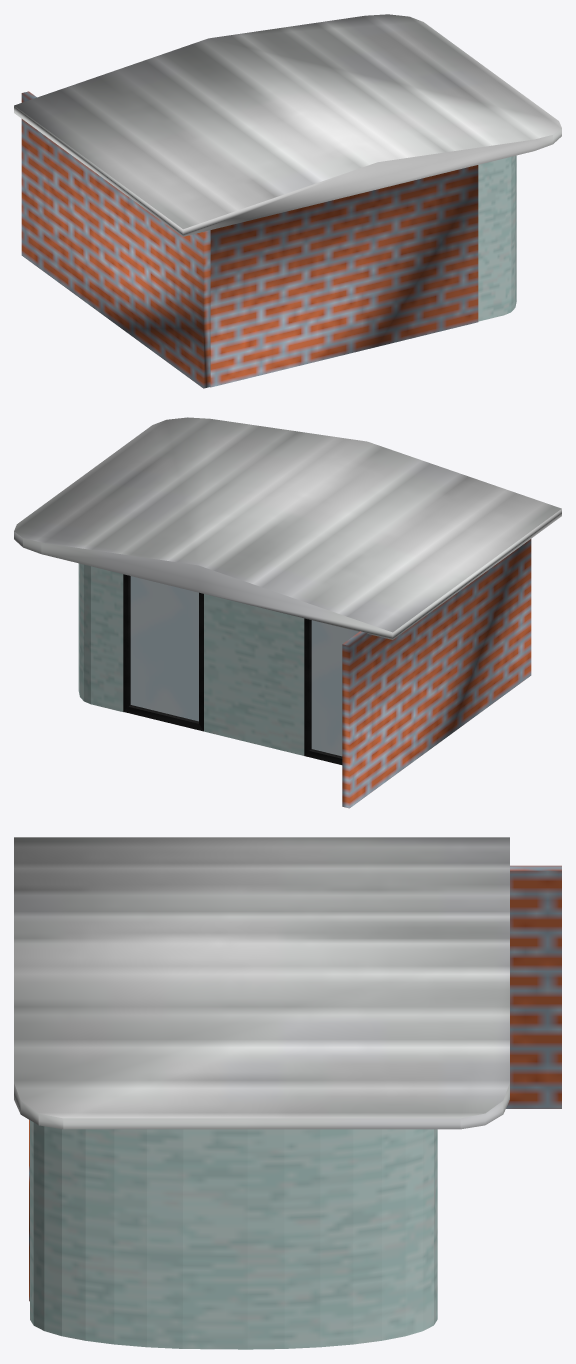
Rendered from banheiro3.fbx.
3 views of the same model, one above another, from view 1: azimuth 30°, elevation 25°; view 2: azimuth 150°, elevation 25°; view 3: azimuth 270°, elevation 25° (orthographic). The views are drawn at different scales.
Parts seen in each view (by area): view 1: Telhado Centro, Parede frente, Parede frente.006, Circle; view 2: Telhado Centro, Parede frente.006, Parede frente.005, Parede frente.002, Circle, Parede frente.004; view 3: Telhado Centro, Circle, Parede frente.006.
Part boxes in pixels (bbox=[...]): Telhado Centro: bbox=[14, 14, 561, 236]; Parede frente: bbox=[210, 165, 478, 387]; Parede frente.006: bbox=[21, 91, 210, 388]; Circle: bbox=[478, 155, 516, 321]; Telhado Centro: bbox=[14, 417, 561, 639]; Parede frente.006: bbox=[342, 539, 531, 808]; Parede frente.005: bbox=[204, 594, 304, 755]; Parede frente.002: bbox=[123, 574, 203, 731]; Circle: bbox=[78, 563, 123, 712]; Parede frente.004: bbox=[304, 618, 358, 764]; Telhado Centro: bbox=[14, 837, 509, 1129]; Circle: bbox=[30, 1120, 437, 1349]; Parede frente.006: bbox=[506, 865, 561, 1108].
Bounding box in the file's own units: 19933 × 9193 × 16429.
